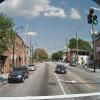Car: (8, 60, 31, 88)
